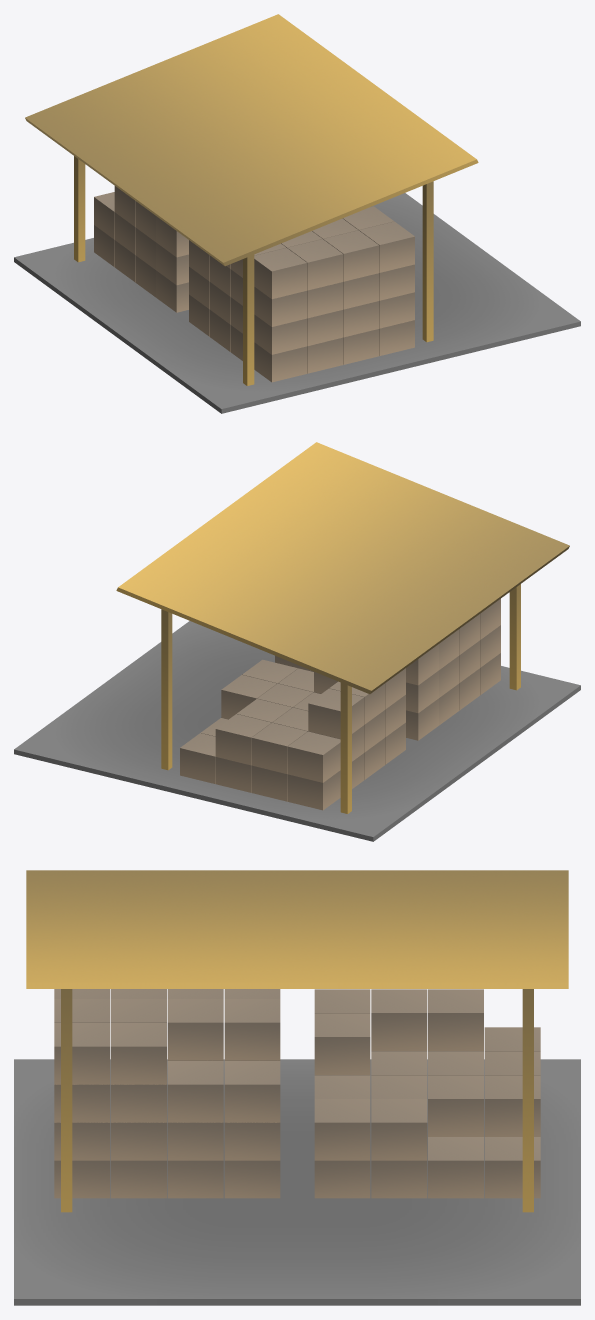
File: storage3.glb
3 views of the same model, one above another, from view 1: azimuth 30°, elevation 25°; view 2: azimuth 150°, elevation 25°; view 3: azimuth 270°, elevation 25° (orthographic). The views are drawn at different scales.
Visible parts, largest first — view 1: Storage3; view 2: Storage3; view 3: Storage3.
Boxes of the visible parts, <box> form: Storage3: <box>14,14,580,413</box>; Storage3: <box>14,442,580,841</box>; Storage3: <box>14,870,580,1305</box>.
Size of the model in its own units: 4 by 2 by 4.
1 material, 1 textured.
